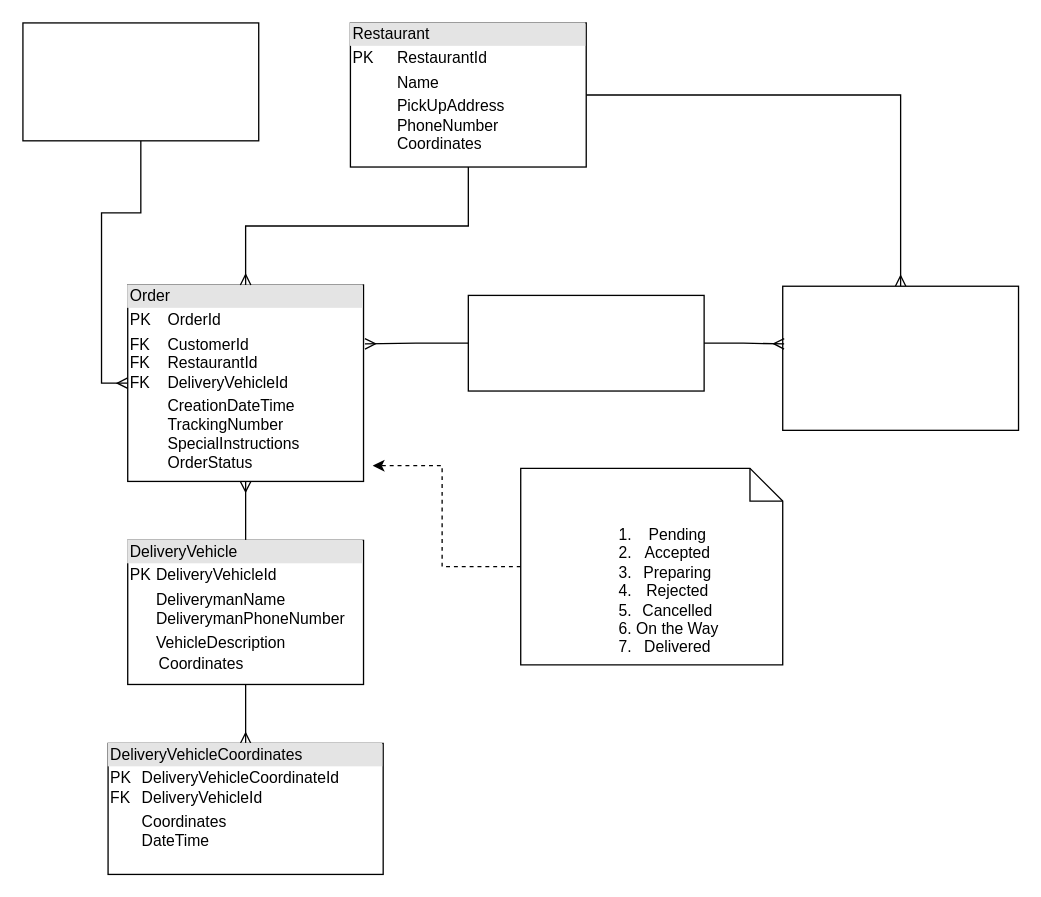
This 1041x897 diagram has some shape labels left out. Each missing label, with the centre of its shape:
"Customer PK CustomerId CustomerName ReceivingAddress PhoneNumber" goes at point (140, 81).
"OrderProduct PK OrderId PK ProductId Amount" goes at point (585, 342).
"Product PK FK ProductId RestaurantId ProductName Price" goes at point (900, 357).
